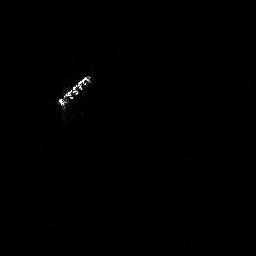ship: (53, 71, 94, 111)
